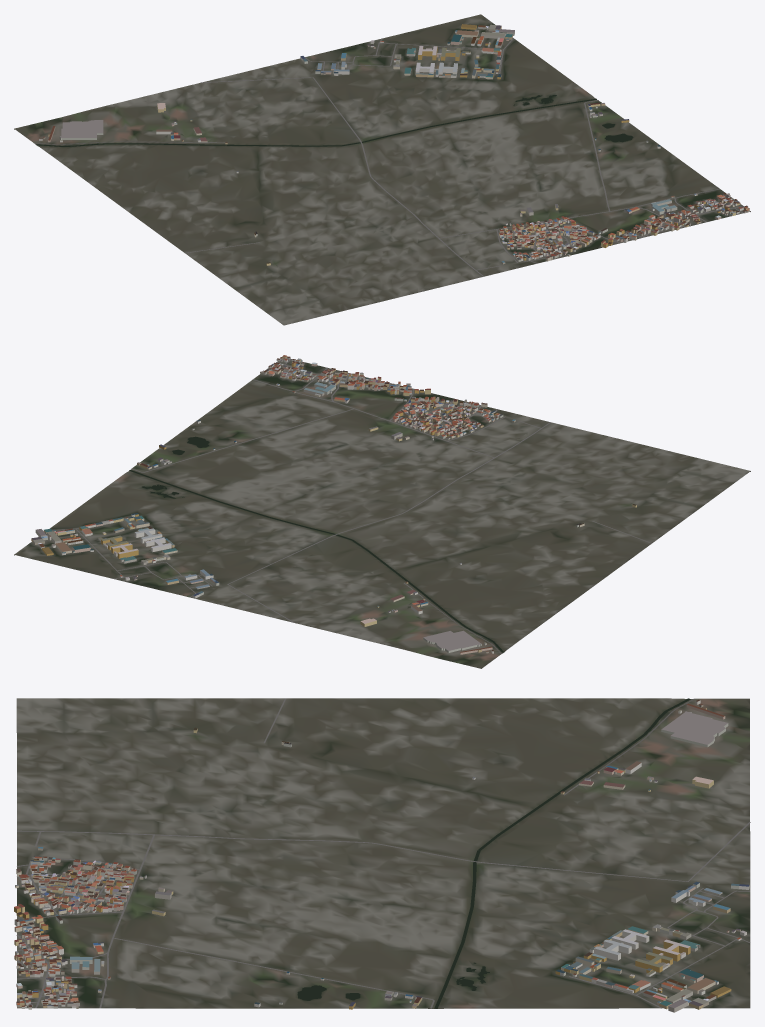
3 renders of one model, top to bottom at view 1: azimuth 30°, elevation 25°; view 2: azimuth 150°, elevation 25°; view 3: azimuth 270°, elevation 25°, orthographic. The views are drawn at different scales.
Parts seen in each view (by area): view 1: ground, buildings, roads, water; view 2: ground, buildings, roads, water; view 3: ground, buildings, roads, water.
Part boxes in pixels (x1,y1,x2,y2): ground: [14, 14, 750, 325]; buildings: [39, 24, 749, 265]; roads: [34, 38, 743, 276]; water: [36, 95, 633, 146]; ground: [14, 359, 750, 668]; buildings: [31, 355, 636, 654]; roads: [52, 358, 651, 653]; water: [129, 436, 504, 652]; ground: [16, 698, 750, 1008]; buildings: [14, 699, 749, 1012]; roads: [16, 698, 750, 1008]; water: [297, 698, 690, 1008].
Size of the model in its own units: 1422 by 18.26 by 1409.
